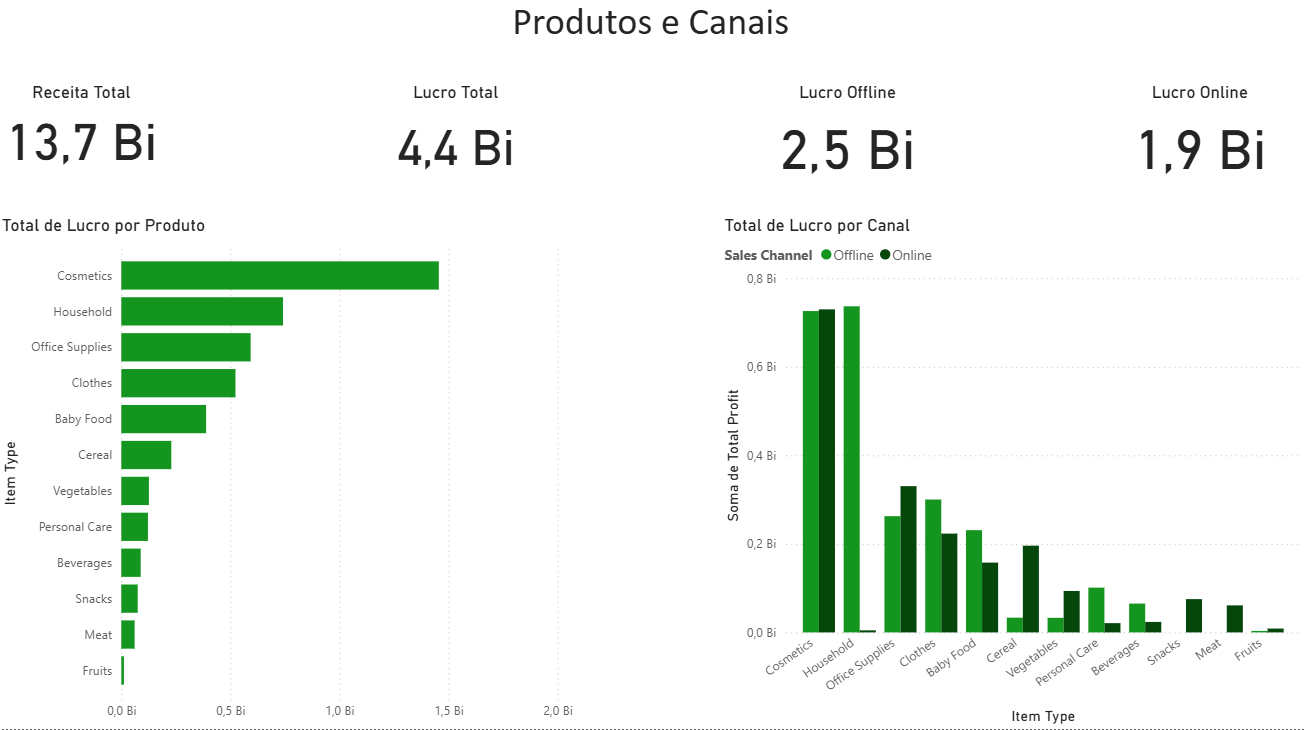

The page's visual inventory and layout, read from the dashboard file:
{"tool":"powerbi","page":{"name":"Produtos e Canais","canvas":[1280,720],"ordinal":2},"visuals":[{"type":"barChart","title":"Total de Lucro por Produto","fields":{"Y":["Sum(100 Sales Records.Total Profit)"],"Category":["100 Sales Records.Item Type"]},"box":[0,216.4,568.6,503.8],"z":0},{"type":"clusteredColumnChart","title":"Total de Lucro por Canal","fields":{"Category":["100 Sales Records.Item Type"],"Y":["Sum(100 Sales Records.Total Profit)"],"Series":["100 Sales Records.Sales Channel"]},"box":[706.8,216.4,573.5,503.8],"z":1000},{"type":"card","title":"Receita Total","fields":{"Values":["Sum(100 Sales Records.Total Revenue)"]},"box":[0,86.8,165.1,86.8],"z":2000},{"type":"card","title":"Lucro Total","fields":{"Values":["Sum(100 Sales Records.Total Profit)"]},"box":[366.8,86.8,163.9,99],"z":3000},{"type":"textbox","box":[437.8,0,403.5,62.4],"z":4000},{"type":"card","title":"Lucro Online","fields":{"Values":["100 Sales Records.Lucro Online"]},"box":[1073.6,86.8,206.7,99],"z":5000},{"type":"card","title":"Lucro Offline","fields":{"Values":["100 Sales Records.Lucro Offline"]},"box":[742.3,86.8,179.8,99],"z":6000}]}

Visuals, with their boxes in screenshot pixels (x1, y1, x2, y2), scaled from the page's 1280x720 canvas onto the 1305x730 screenshot:
"Total de Lucro por Produto" barChart: box(0, 219, 580, 729)
"Total de Lucro por Canal" clusteredColumnChart: box(721, 219, 1304, 729)
"Receita Total" card: box(0, 88, 168, 176)
"Lucro Total" card: box(374, 88, 541, 188)
textbox: box(446, 0, 858, 63)
"Lucro Online" card: box(1095, 88, 1304, 188)
"Lucro Offline" card: box(757, 88, 940, 188)
